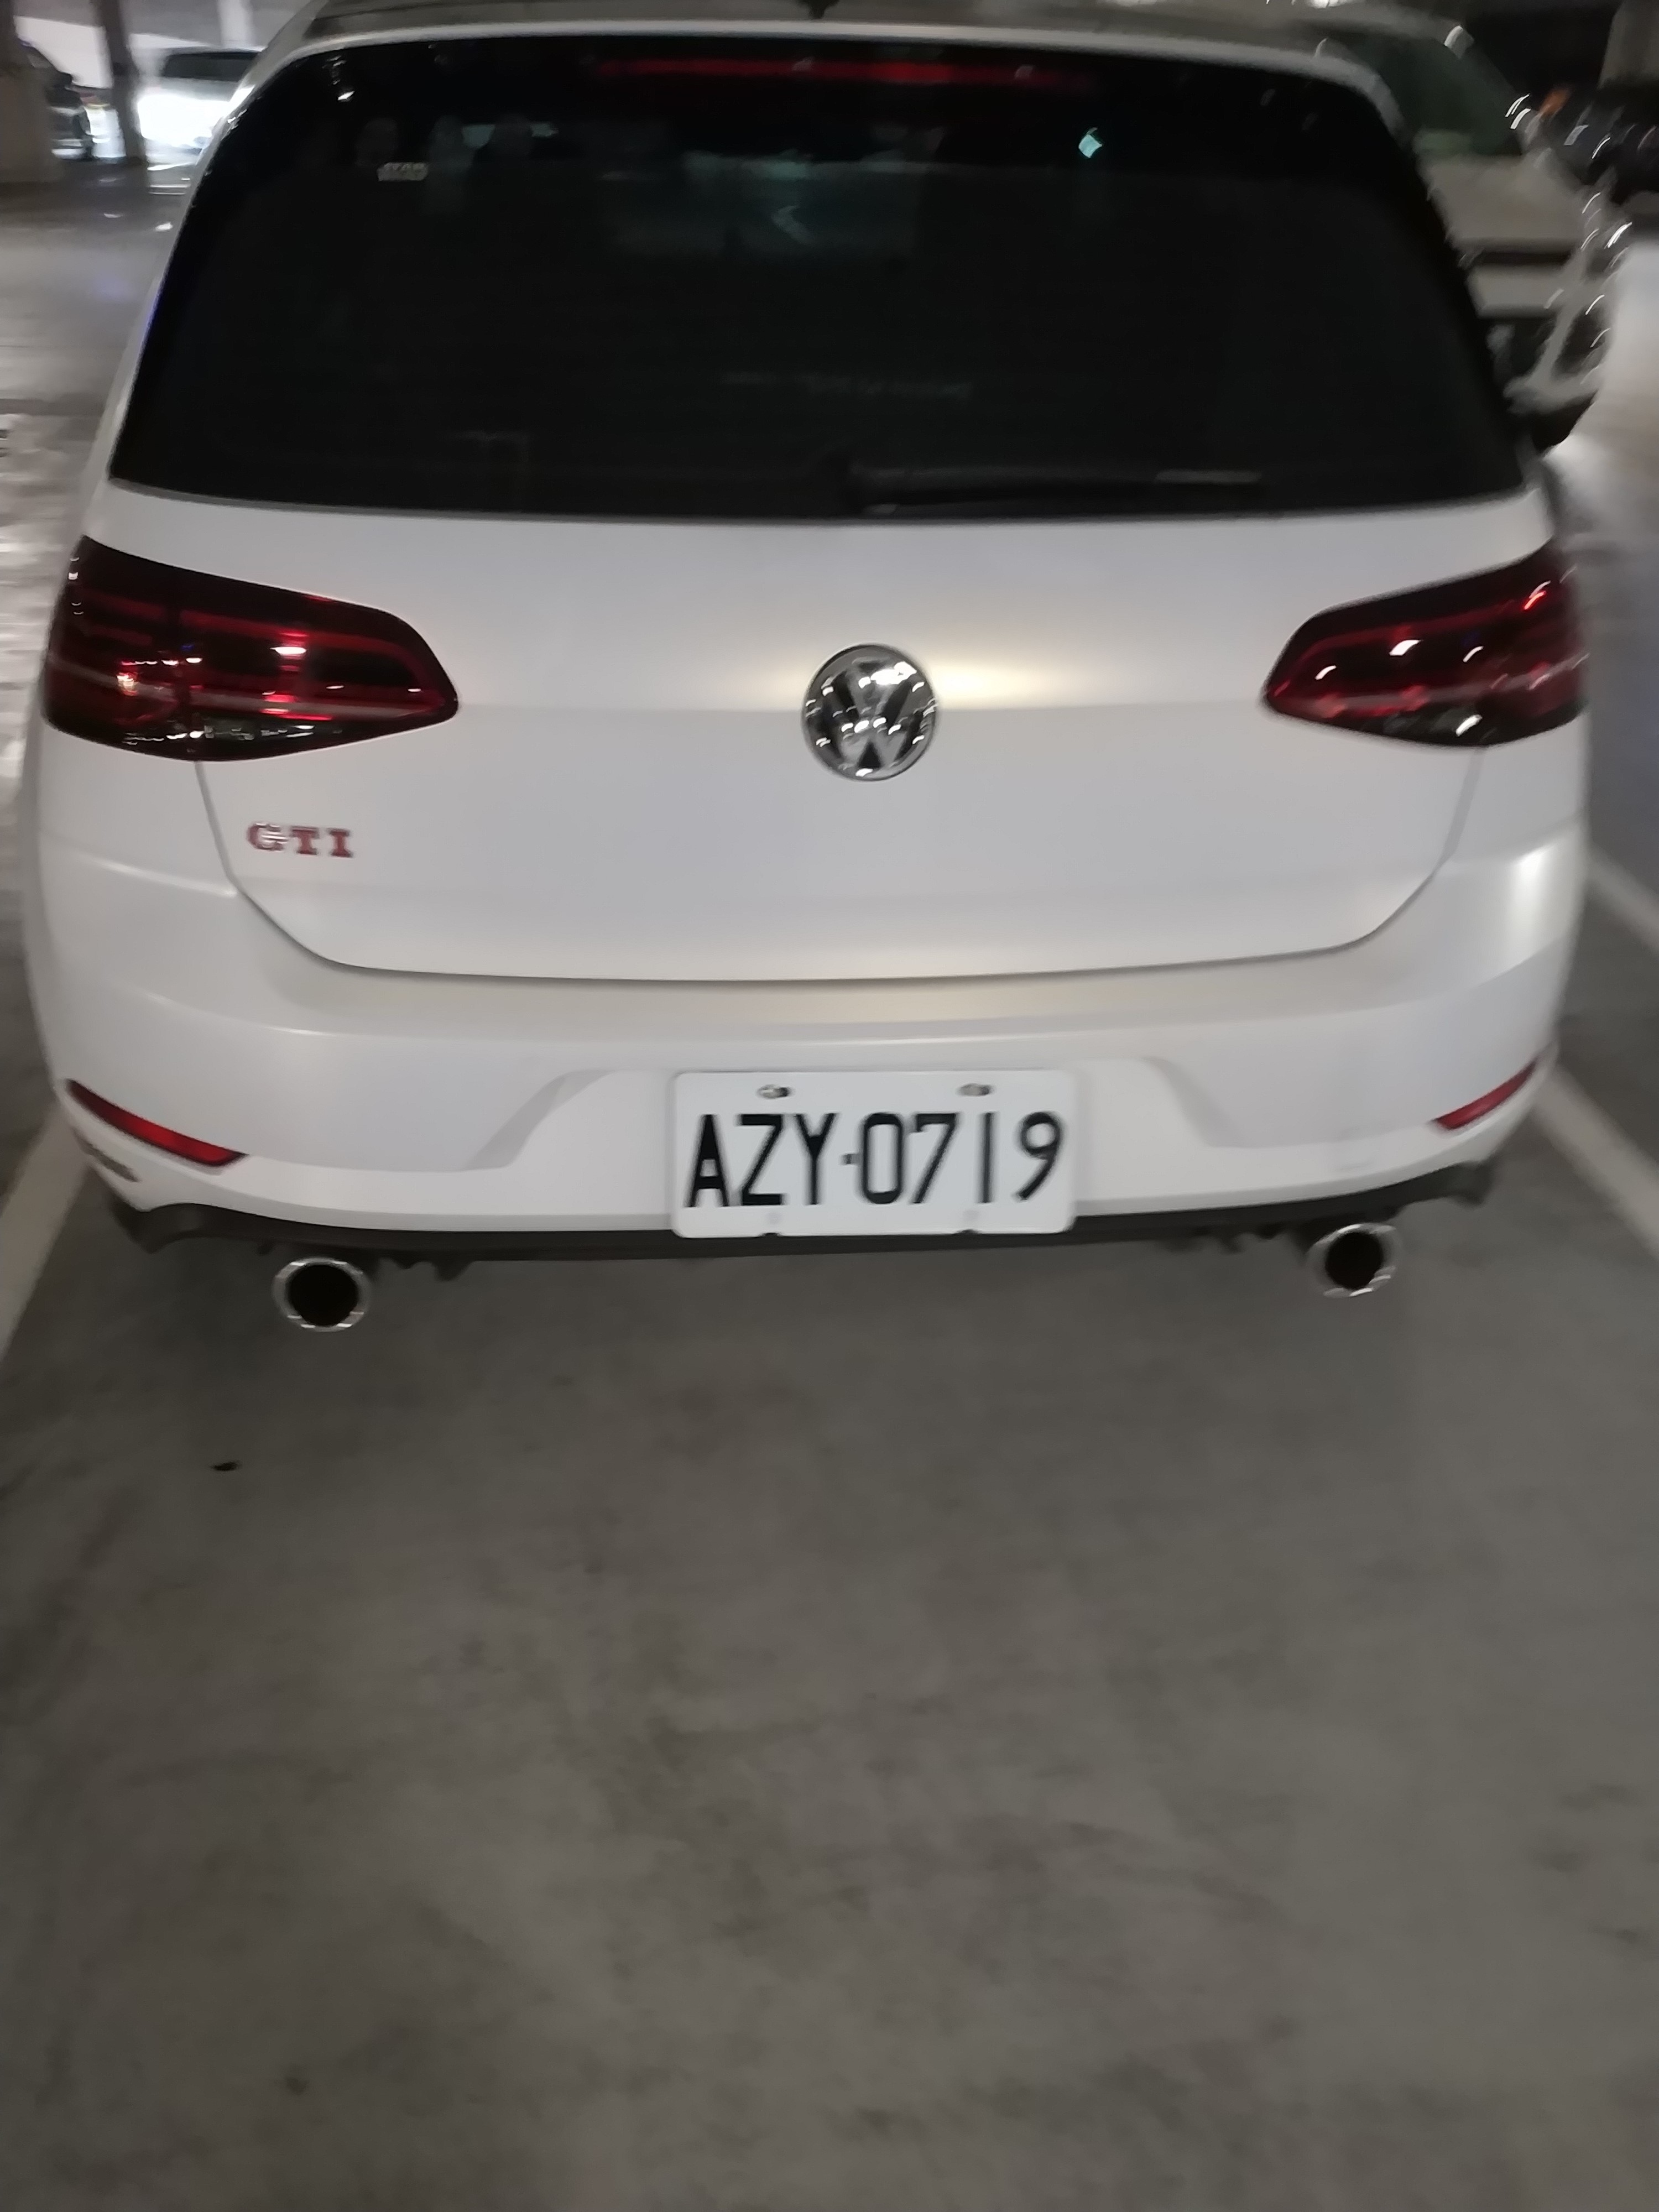car: (0, 17, 1595, 1310)
car_card: (676, 1059, 1079, 1244)
